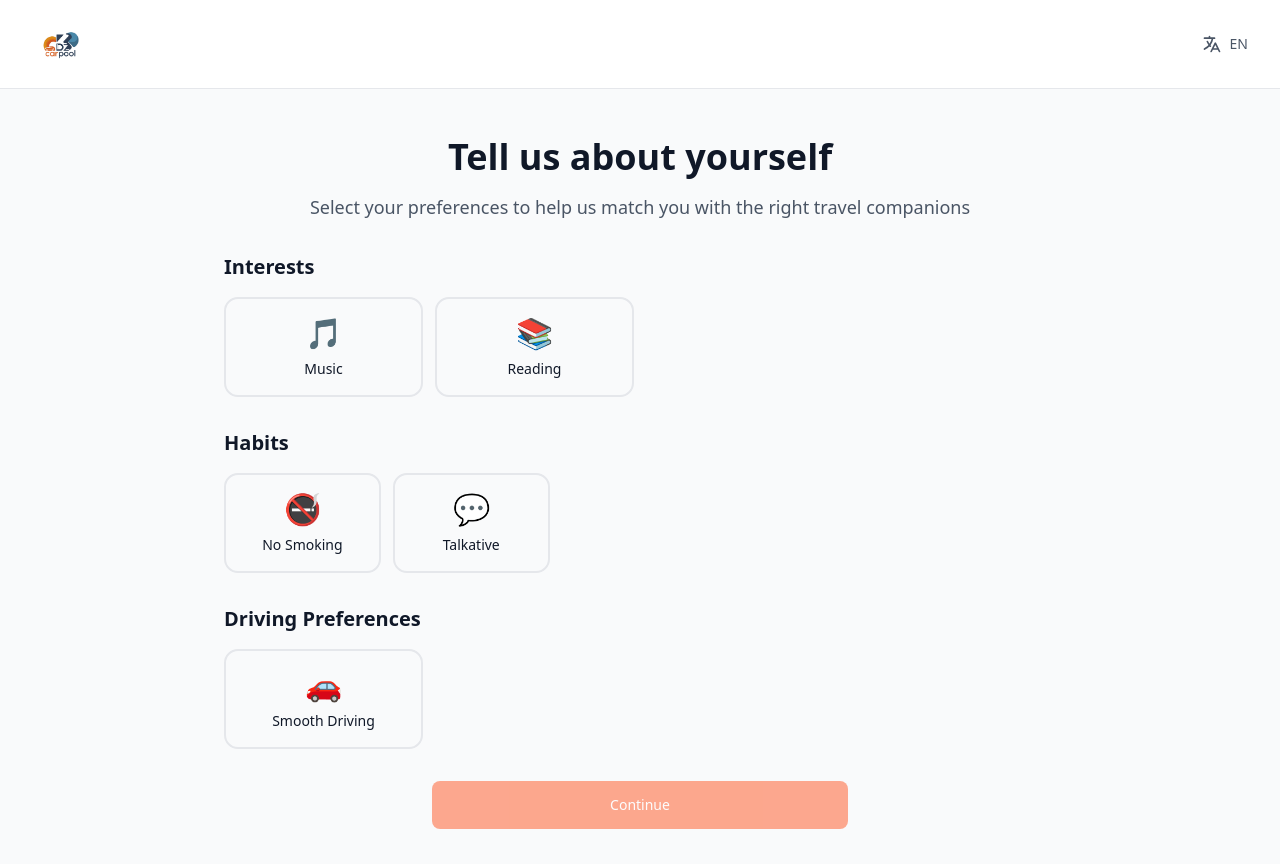
Test: PreferencesPage › displays error on save failure
Expected: the text "Music" is shown, x1=304 y1=359 x2=343 y2=378
Click the button "🎵 Music" at (324,347), box x1=224 y1=297 x2=423 y2=397
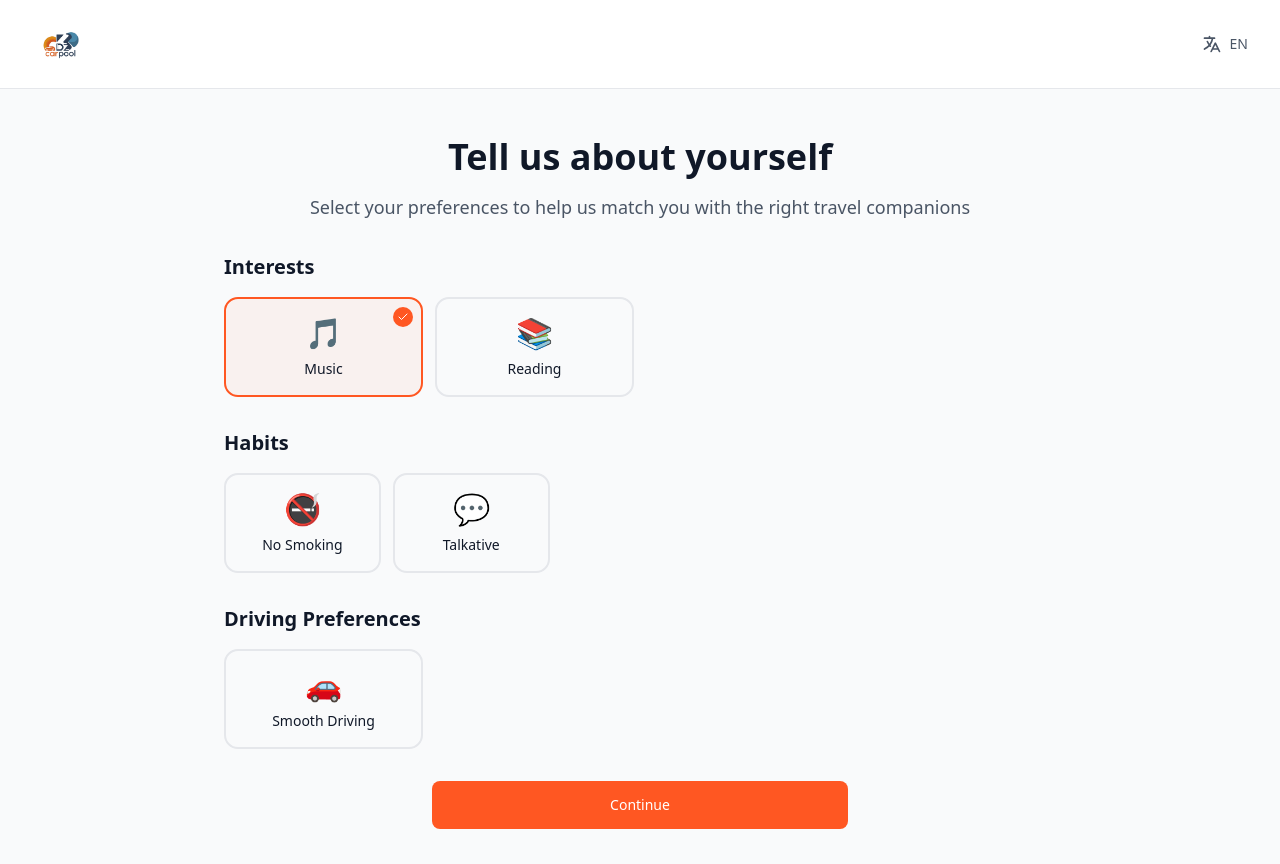
Click the button "Continue" at (640,805), box x1=432 y1=781 x2=848 y2=829
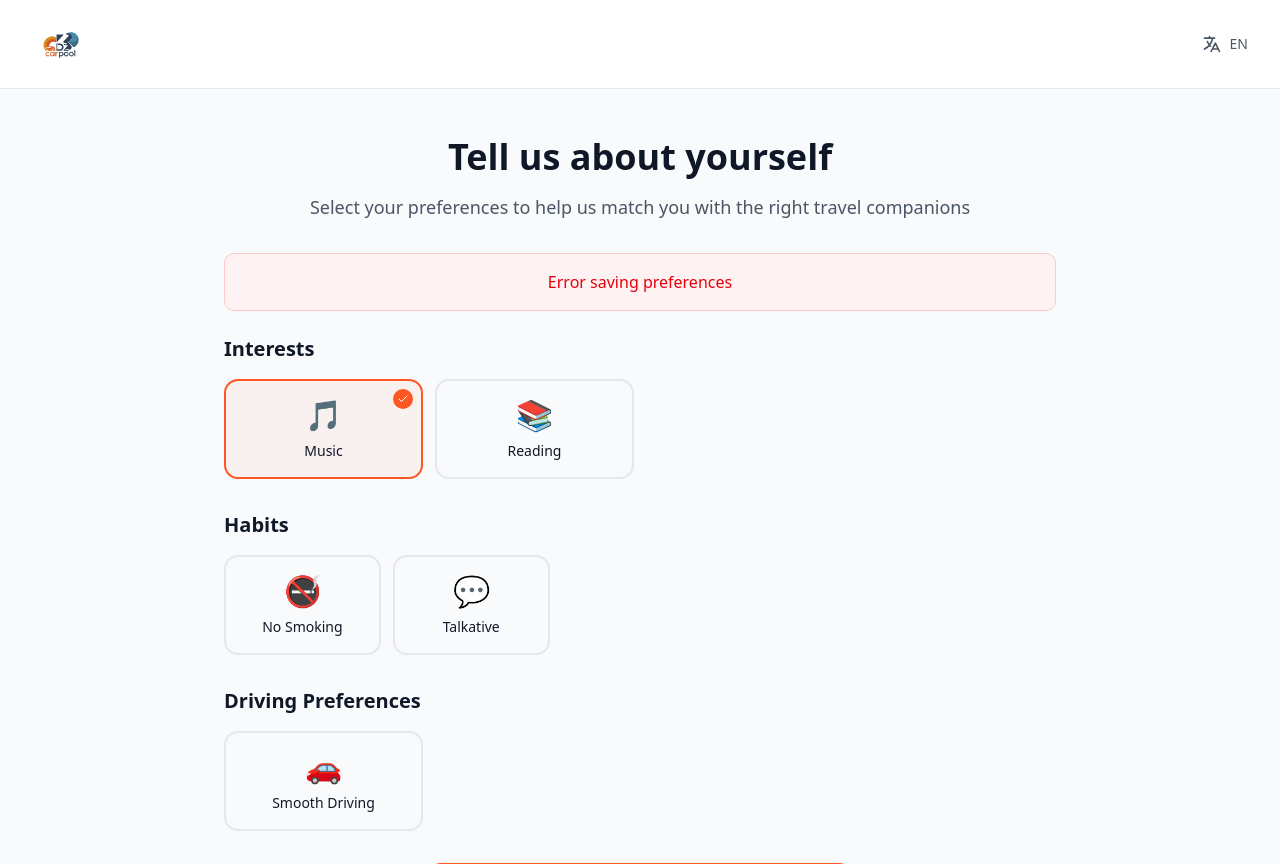
Expected: the text "Error saving preferences" is shown, x1=224 y1=253 x2=1056 y2=311
